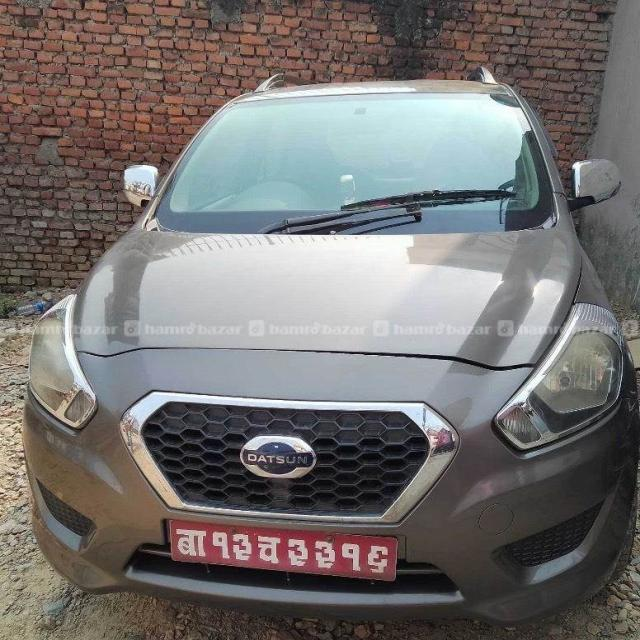License-plate: (166, 515, 396, 583)
